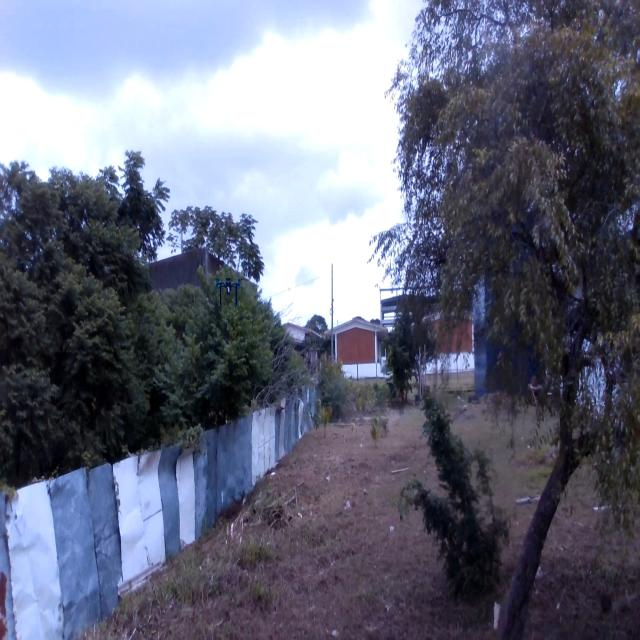-uav-: (218, 272, 244, 316)
